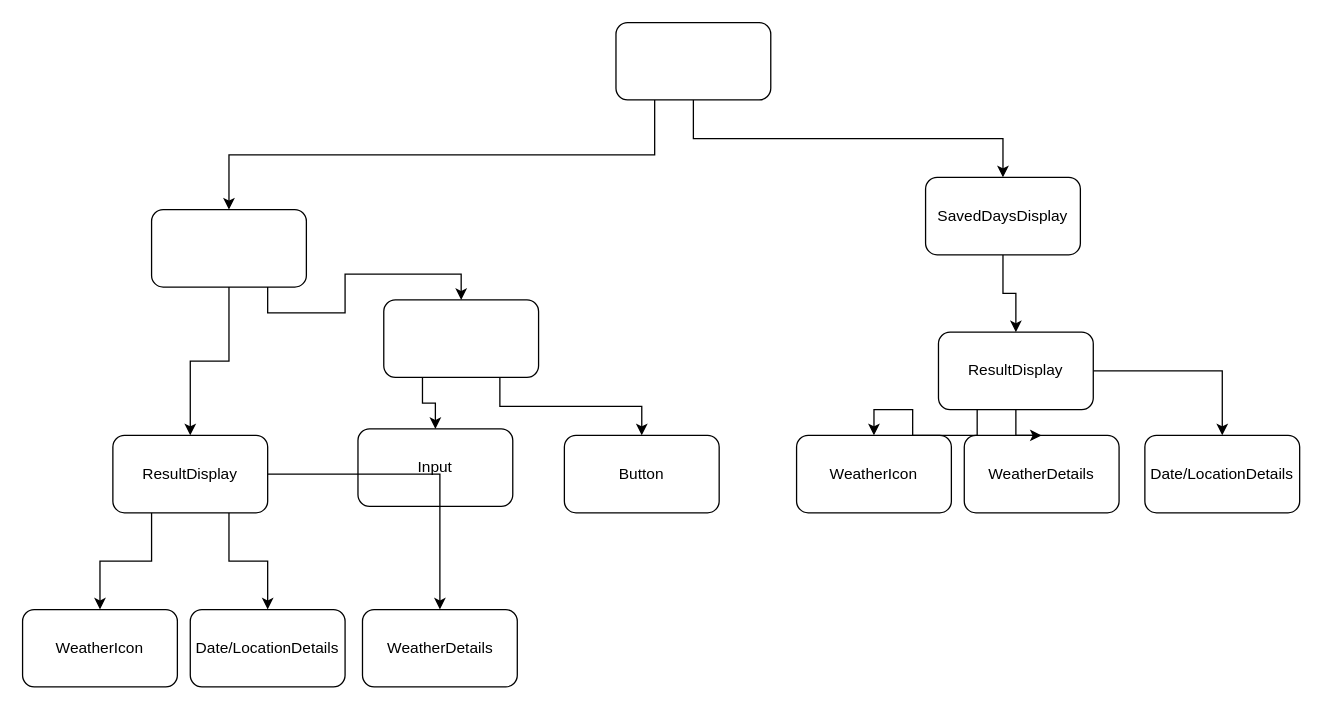
Image size: 1322x710. Some labels were removed from this diagram. The shapes that lost their labels are listed below. From the top down, each one's centre as x and y in pixels, then its label:
At point (693, 60): "App".
At point (228, 247): "SearchArea".
At point (460, 338): "Search".
